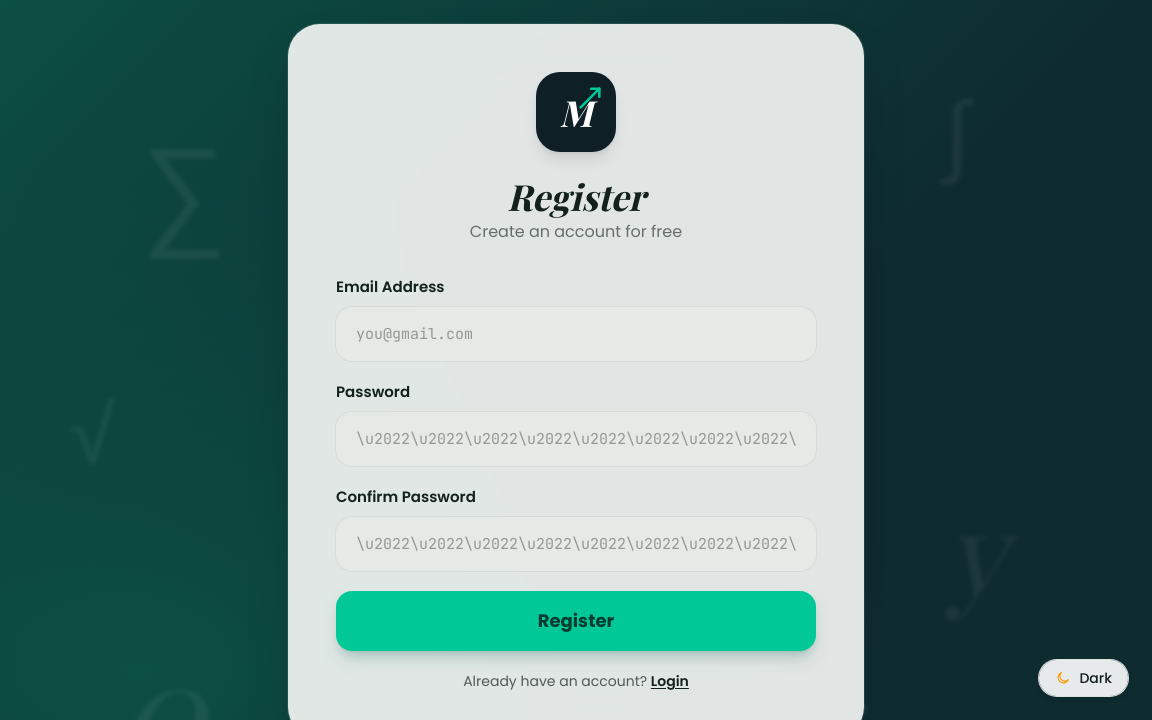
Test case: Register Page › shows error when email format is invalid
Step 1. Type "notanemail" into the field labelled "Email Address" → [576, 334], box [336, 306, 816, 361]
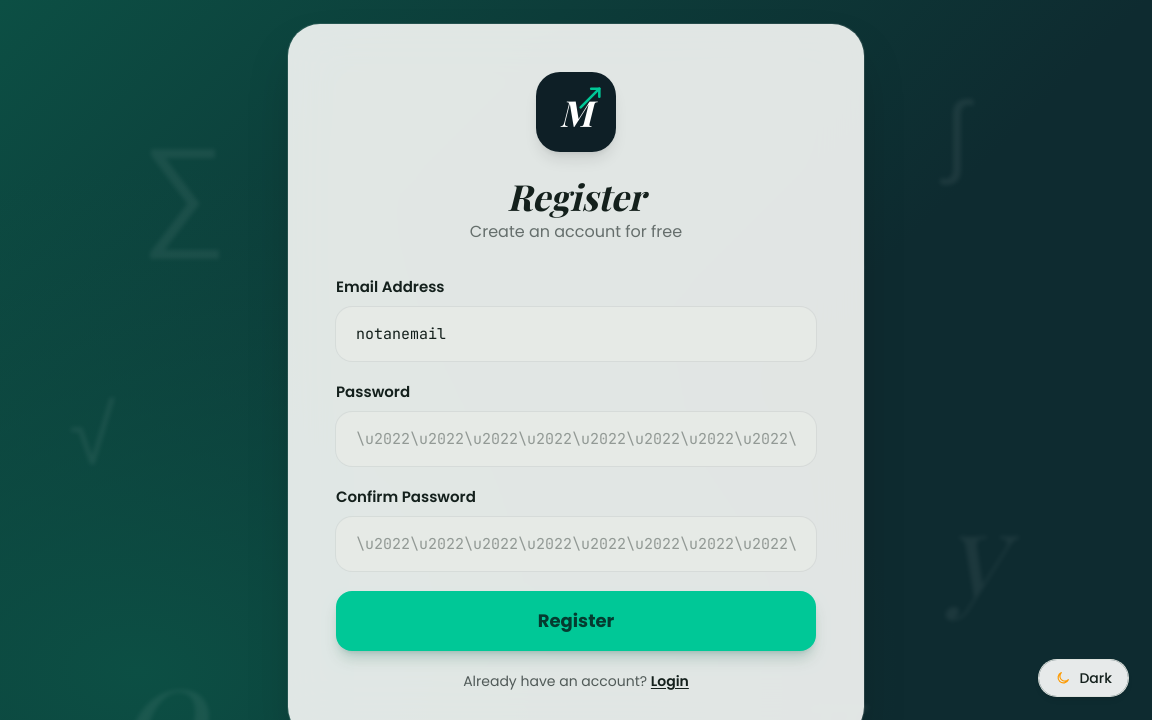
Step 2. Click the button "Register" → [576, 621], box [336, 591, 816, 651]
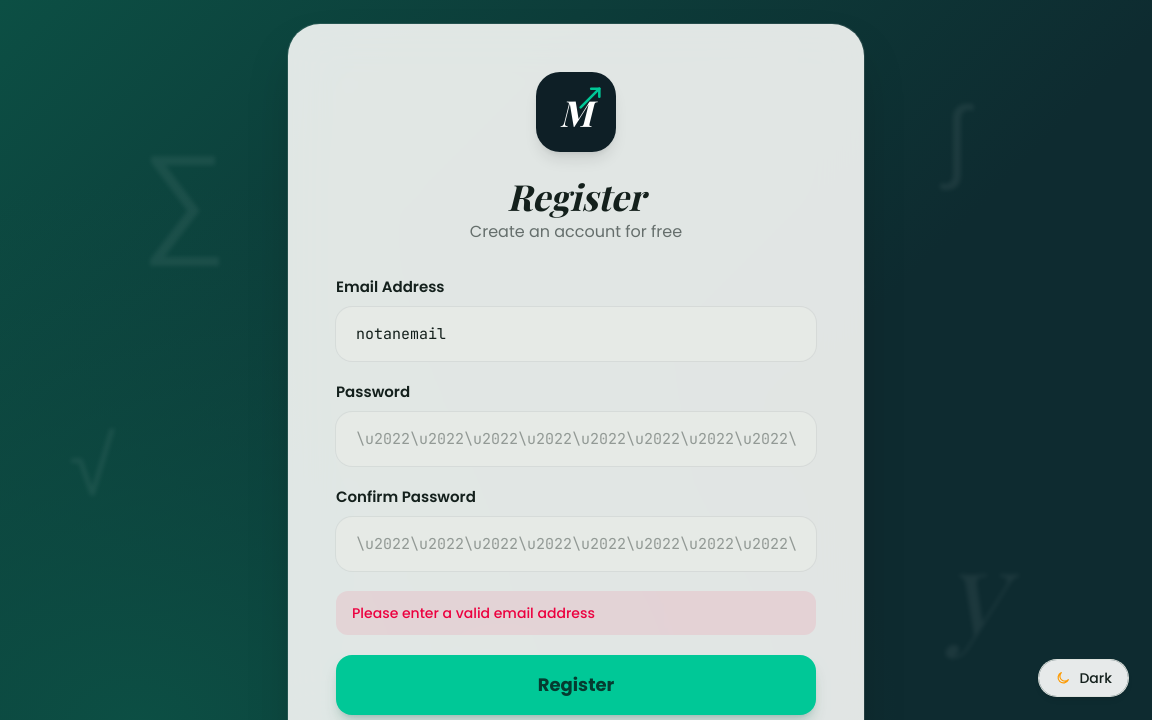
expect the text "Please enter a valid email address" is shown: met, box [336, 591, 816, 635]
